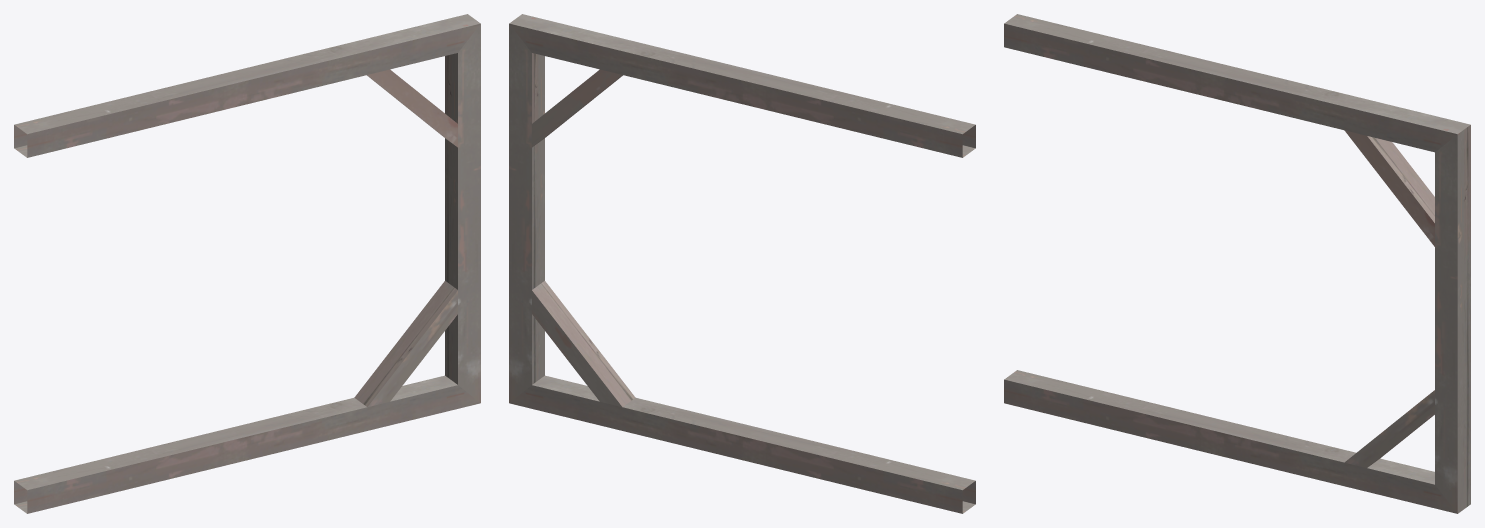
File: props_farm_doorframe001a.glb
The picture shows the model from 3 angles, left to right: view 1: azimuth 30°, elevation 25°; view 2: azimuth 150°, elevation 25°; view 3: azimuth 330°, elevation 25°; orthographic projection.
Visible parts, largest first — view 1: models/props_farm/doorframe001a; view 2: models/props_farm/doorframe001a; view 3: models/props_farm/doorframe001a.
Part boxes in pixels (x1,y1,x2,y2): models/props_farm/doorframe001a: (14,14,480,513); models/props_farm/doorframe001a: (509,14,975,513); models/props_farm/doorframe001a: (1004,14,1470,513).
Bounding box in the file's own units: 160 × 128 × 8.
Materials: 1 (1 with a texture image).
